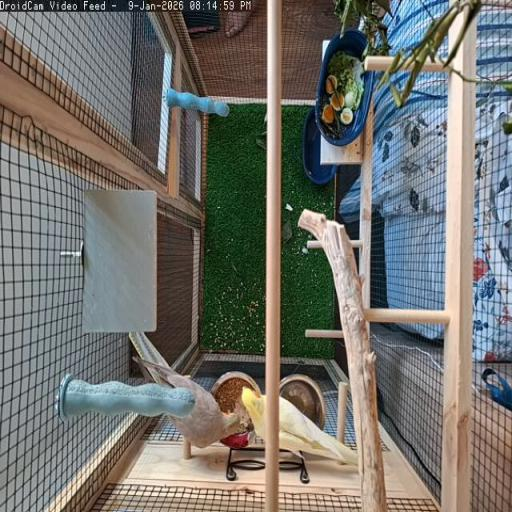bebedero: (280, 374, 326, 427)
comedero: (211, 371, 260, 448)
ninfa: (136, 358, 238, 447), (278, 397, 358, 463), (242, 388, 268, 441)
